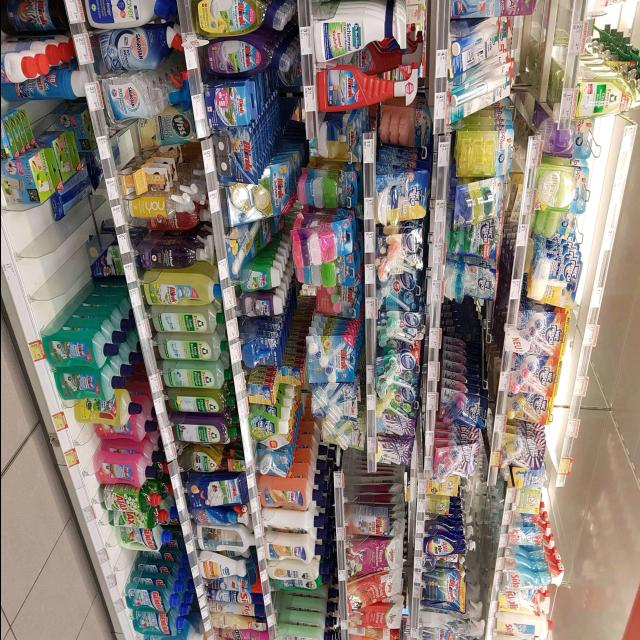empty_space: (10, 208, 54, 256), (25, 260, 71, 296), (118, 550, 154, 568), (270, 590, 314, 602)
